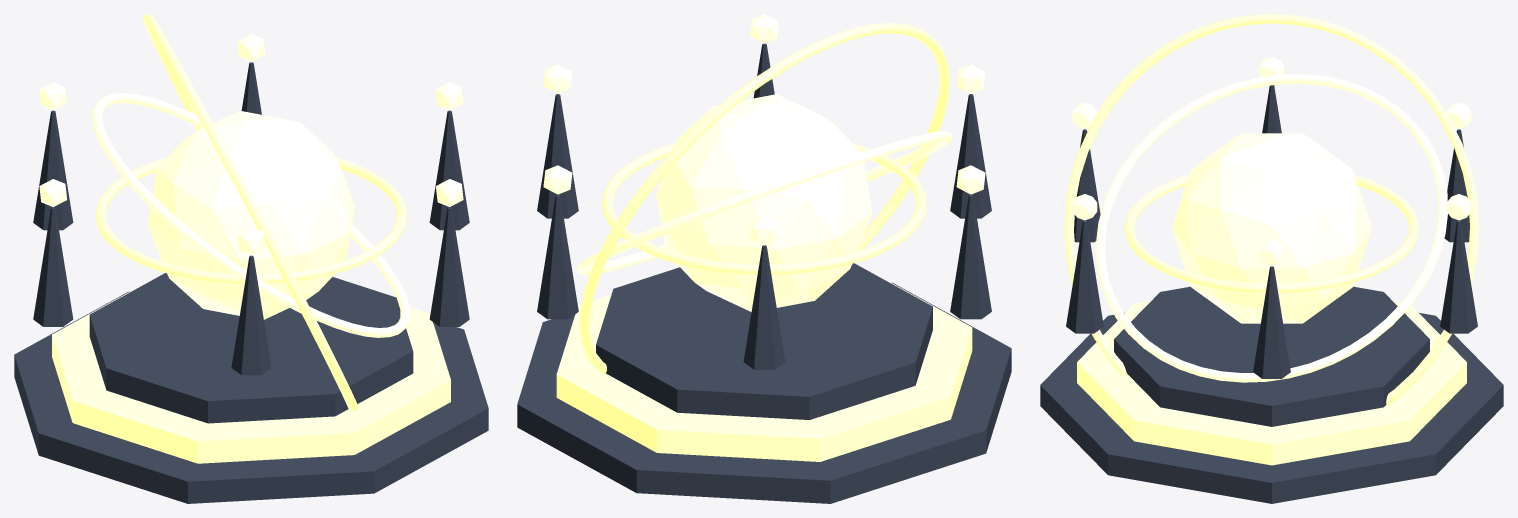
Rendered from gpu-blender-v36.glb.
The picture shows the model from 3 angles, left to right: view 1: azimuth 30°, elevation 25°; view 2: azimuth 150°, elevation 25°; view 3: azimuth 270°, elevation 25°; orthographic projection. The views are drawn at different scales.
Parts seen in each view (by area): view 1: Cylinder.002, SovereignCore_agent-flight-recorder, Cylinder, Cylinder.001, Torus.001, Torus.002, Torus, Cone.004, Cone.003, Cone.005, Cone, Cone.002 (+7 smaller); view 2: Cylinder.002, SovereignCore_agent-flight-recorder, Cylinder, Cylinder.001, Torus.002, Torus.001, Torus, Cone.001, Cone.003, Cone.002, Cone, Cone.004 (+6 smaller); view 3: SovereignCore_agent-flight-recorder, Cylinder.002, Cylinder, Cylinder.001, Torus.001, Torus.002, Torus, Cone.001, Cone.005, Cone, Cone.004, Cone.002 (+4 smaller).
Boxes of the visible parts, bbox=[...] form: Cylinder.002: bbox=[89, 273, 413, 423]; SovereignCore_agent-flight-recorder: bbox=[147, 110, 355, 319]; Cylinder: bbox=[14, 291, 488, 503]; Cylinder.001: bbox=[52, 281, 450, 463]; Torus.001: bbox=[92, 93, 410, 337]; Torus.002: bbox=[143, 14, 358, 411]; Torus: bbox=[95, 158, 407, 283]; Cone.004: bbox=[231, 255, 271, 375]; Cone.003: bbox=[33, 207, 73, 326]; Cone.005: bbox=[429, 207, 469, 326]; Cone: bbox=[429, 110, 469, 230]; Cone.002: bbox=[33, 110, 73, 230]; Cylinder.002: bbox=[596, 263, 932, 419]; SovereignCore_agent-flight-recorder: bbox=[656, 94, 872, 311]; Cylinder: bbox=[517, 282, 1011, 503]; Cylinder.001: bbox=[556, 272, 972, 461]; Torus.002: bbox=[579, 23, 949, 374]; Torus.001: bbox=[577, 131, 951, 275]; Torus: bbox=[602, 143, 926, 274]; Cone.001: bbox=[537, 195, 578, 319]; Cone.003: bbox=[950, 195, 991, 319]; Cone.002: bbox=[743, 245, 785, 369]; Cone: bbox=[537, 94, 578, 218]; Cone.004: bbox=[950, 94, 991, 218]; SovereignCore_agent-flight-recorder: bbox=[1172, 133, 1371, 323]; Cylinder.002: bbox=[1114, 286, 1429, 426]; Cylinder: bbox=[1040, 313, 1503, 503]; Cylinder.001: bbox=[1077, 301, 1466, 465]; Torus.001: bbox=[1096, 74, 1447, 382]; Torus.002: bbox=[1064, 14, 1479, 406]; Torus: bbox=[1125, 175, 1418, 292]; Cone.001: bbox=[1440, 220, 1477, 333]; Cone.005: bbox=[1066, 220, 1103, 333]; Cone: bbox=[1253, 266, 1290, 378]; Cone.004: bbox=[1074, 129, 1100, 242]; Cone.002: bbox=[1444, 129, 1469, 242].
Bounding box in the file's own units: 4.41 × 3.72 × 4.4.
